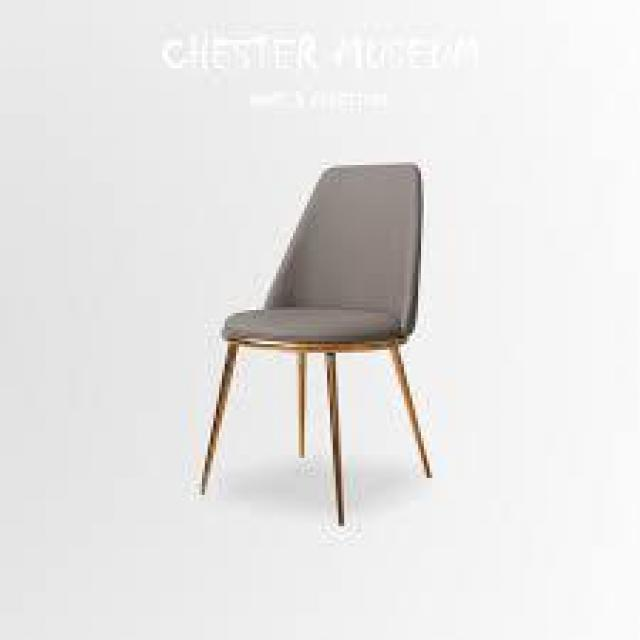chair: (158, 144, 451, 542)
